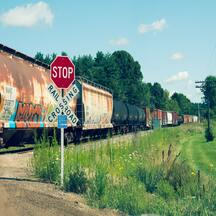Circle: (49, 55, 74, 89)
